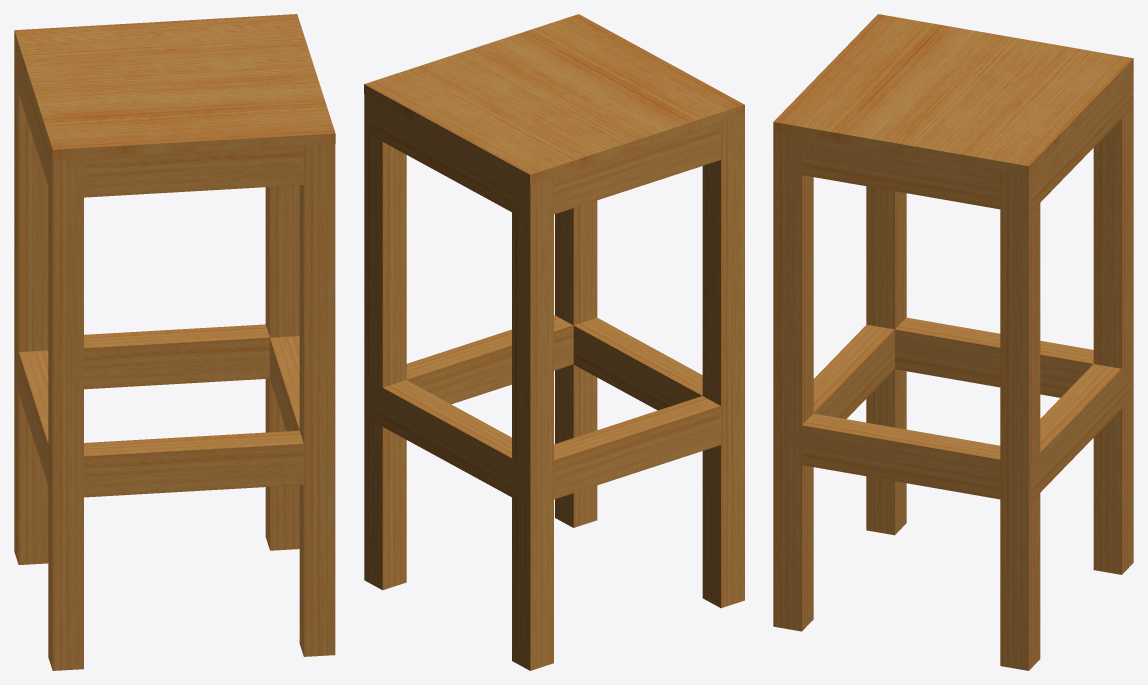
File: Sgabello4.dae
3 views of the same model, side by side, from view 1: azimuth 30°, elevation 25°; view 2: azimuth 150°, elevation 25°; view 3: azimuth 270°, elevation 25° (orthographic). The views are drawn at different scales.
Visible parts, largest first — view 1: Cube_012_006; view 2: Cube_012_006; view 3: Cube_012_006.
Part boxes in pixels (box(x1,y1,x2,y2)): Cube_012_006: box(14, 14, 335, 670); Cube_012_006: box(364, 14, 744, 670); Cube_012_006: box(773, 14, 1133, 670).
Size of the model in its own units: 0.4566 by 0.4566 by 0.7057.
1 material, 1 textured.
